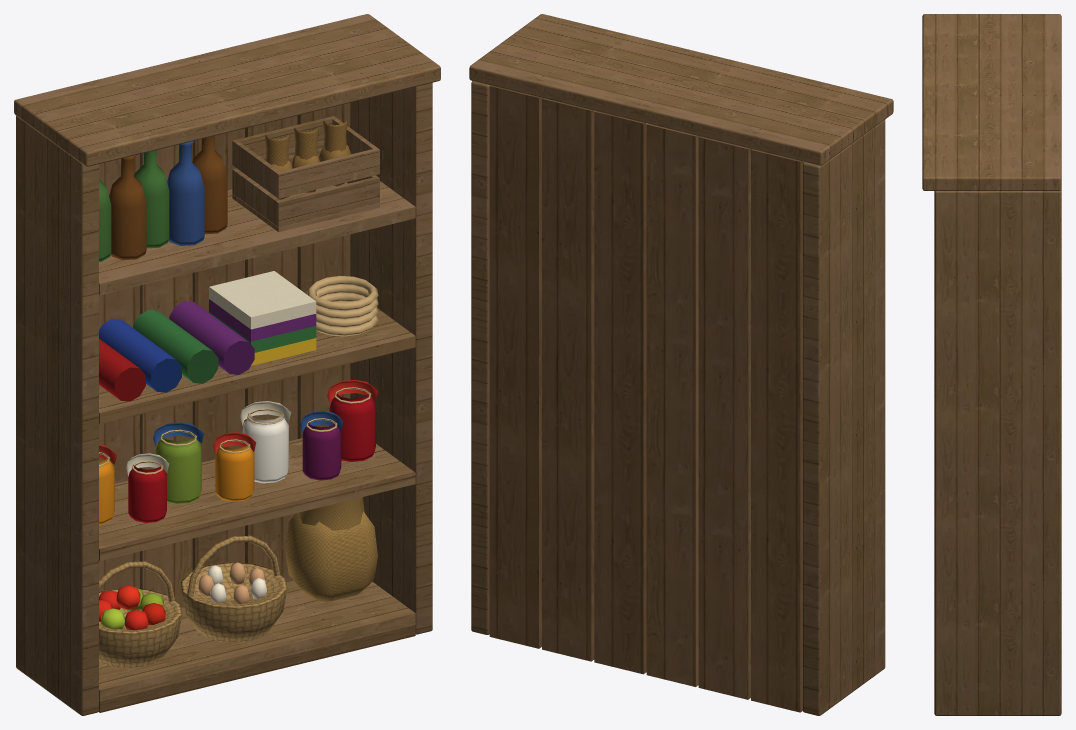
File: prop_shelfGoods.glb
3 renders of one model, left to right at view 1: azimuth 30°, elevation 25°; view 2: azimuth 150°, elevation 25°; view 3: azimuth 270°, elevation 25°, orthographic. The views are drawn at different scales.
Visible parts, largest first — view 1: prop; view 2: prop; view 3: prop.
Boxes of the visible parts, x1,y1,x2,y2 form: prop: (14,14,440,715); prop: (469,14,893,715); prop: (922,14,1061,715).
Size of what is drawn, in the model's own units: 0.98 by 1.5 by 0.35.
7 materials, 4 textured.
